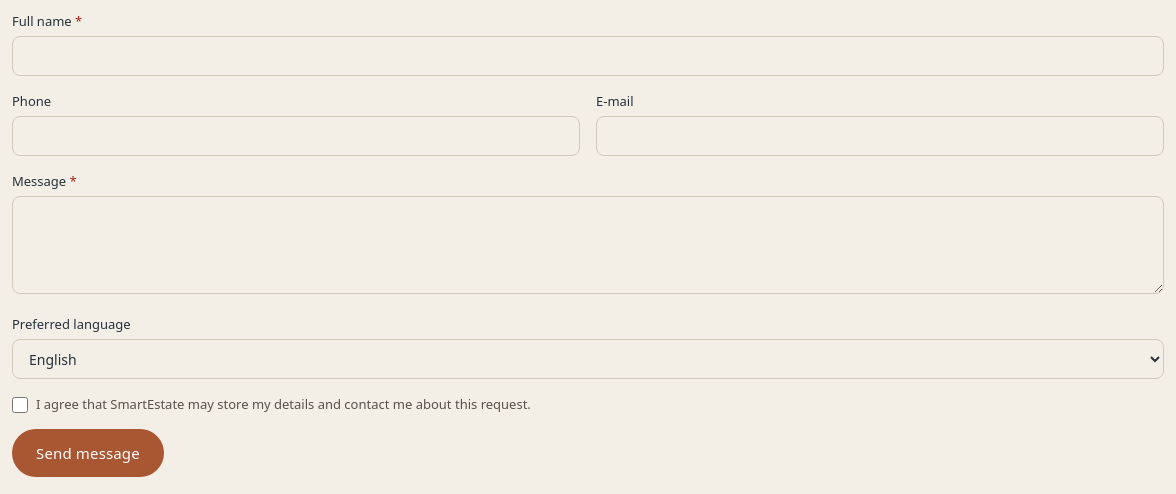
Test: inquiry form › sends the form with its token and a hidden honeypot, then confirms
Type "Rana Fictional" into the field labelled "Full name *" at (588, 56), box [12,36,1164,76]
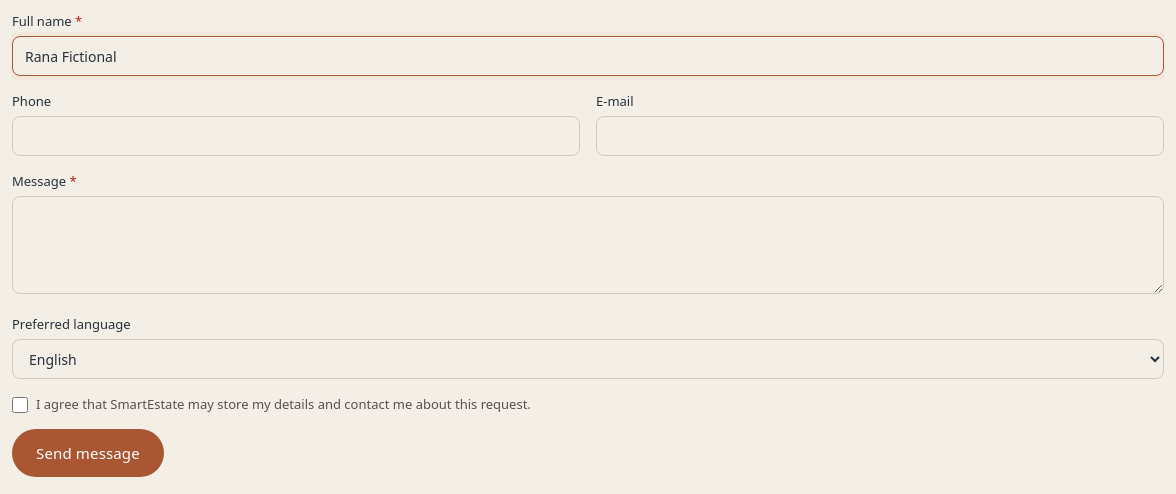
Type "rana@example.com" into the field labelled "E-mail" at (880, 136), box [596,116,1164,156]
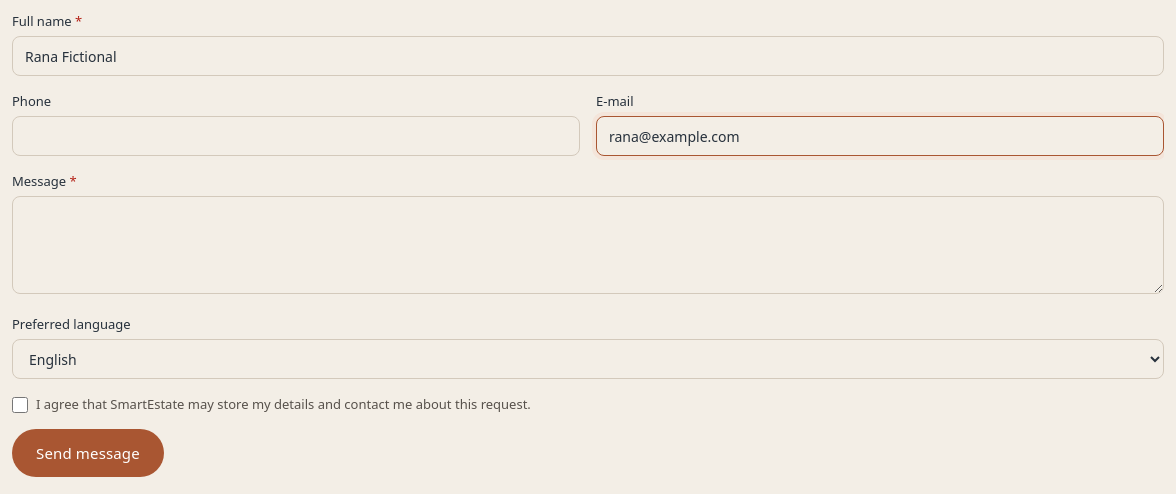
Type "Interested in NOVA" into the text box labelled "Message *" at (588, 245), box [12,196,1164,294]
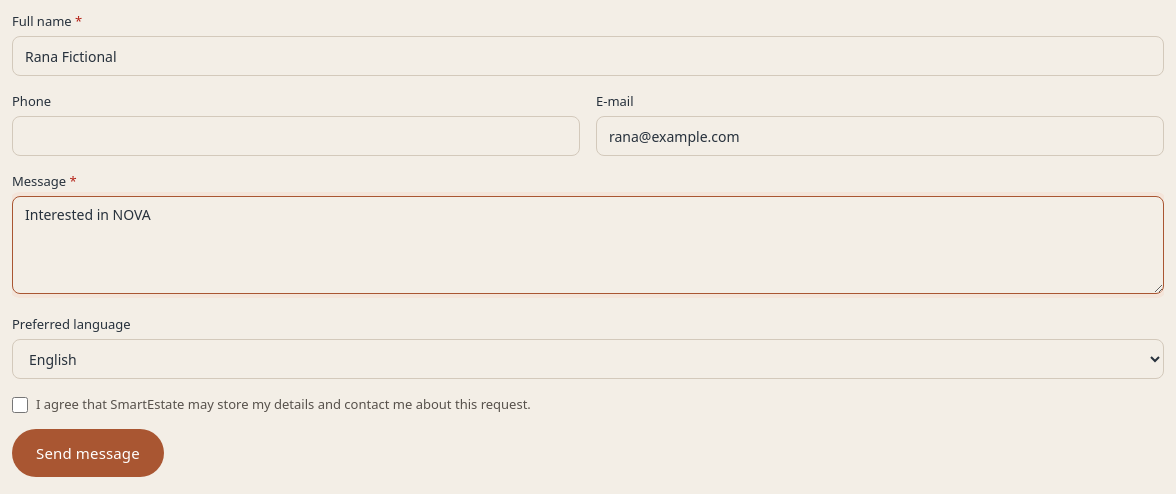
Click the checkbox at (20, 405), box [12,397,28,413]
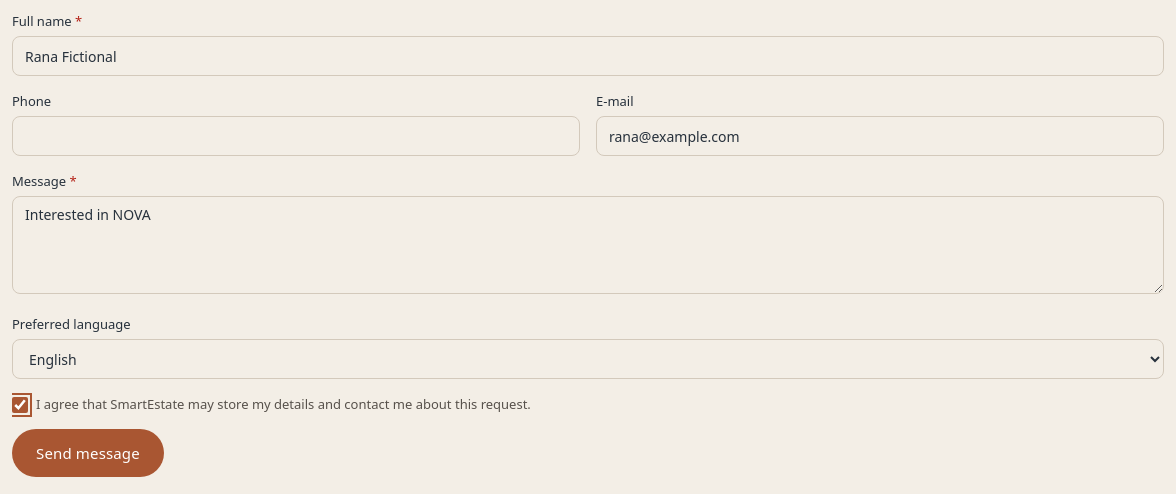
Click the button "Send message" at (88, 453), box [12,429,164,477]
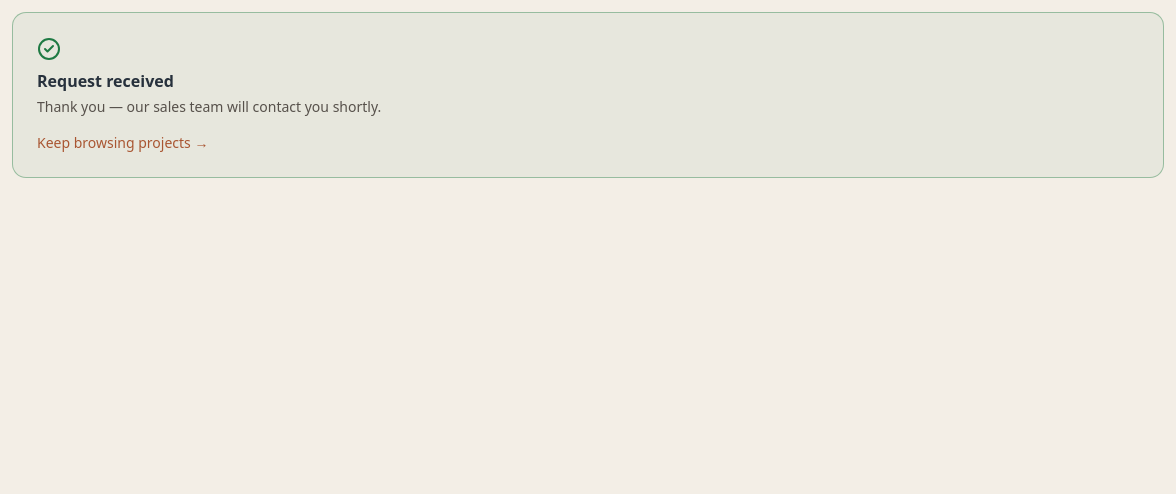
Result: the message shows "Request received" at [37,70,174,92]
